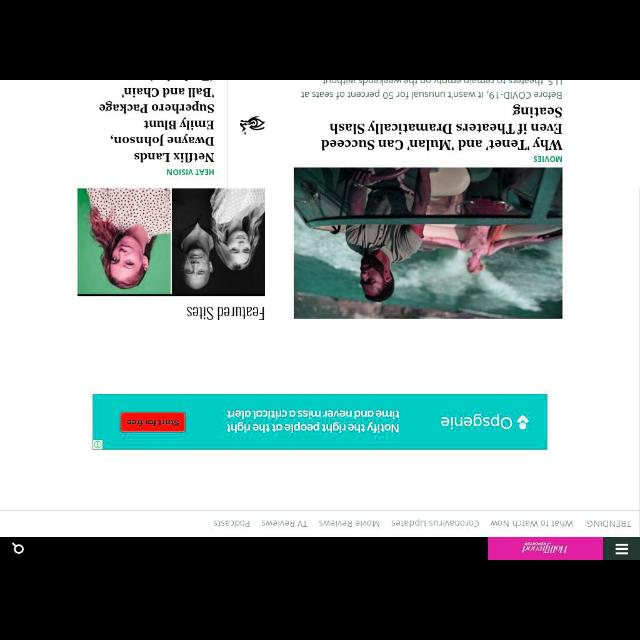icon: (614, 542, 628, 556), (10, 542, 24, 556)
iframe: (92, 394, 548, 450)
image: (294, 168, 562, 318), (78, 187, 264, 296), (488, 538, 602, 558), (239, 116, 265, 136)
multitab: (1, 510, 639, 538)
text: (320, 105, 562, 152), (99, 86, 215, 164), (302, 81, 562, 99), (187, 304, 266, 322), (390, 517, 480, 527), (490, 518, 572, 528), (318, 518, 379, 528), (584, 517, 630, 529), (166, 167, 214, 177), (262, 517, 308, 527), (213, 518, 250, 528), (534, 154, 562, 164)
